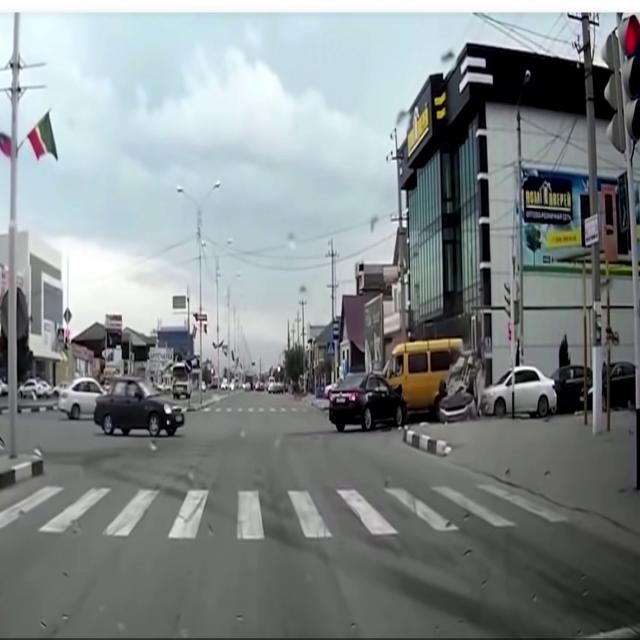accident: (330, 332, 494, 432)
